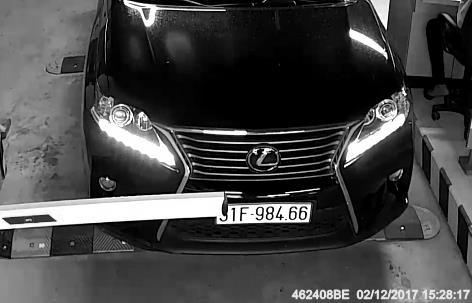License-plate: (209, 197, 323, 236)
